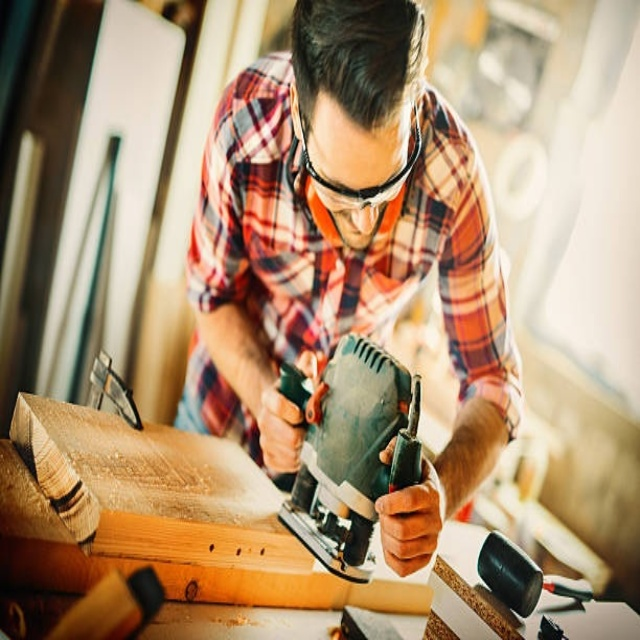Gafas: (294, 82, 421, 213)
Sin_guantes: (377, 452, 444, 576), (256, 367, 310, 478)
